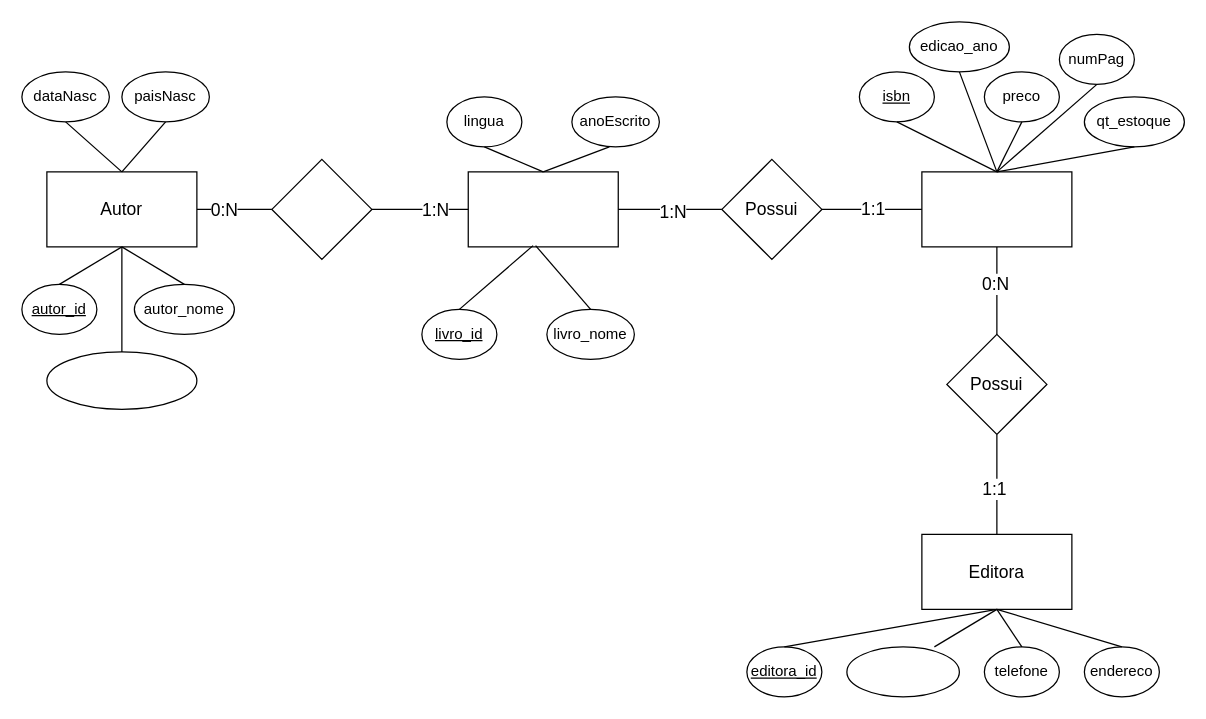
Image size: 1206x719. Some labels were removed from this diagram. The shapes that lost their labels are listed below. From the top down, each one's centre as x and y in pixels, then its label:
[321,208]: Pertence
[542,209]: Livro
[996,209]: Edicao
[121,380]: notaBiografica
[902,671]: editora_nome
